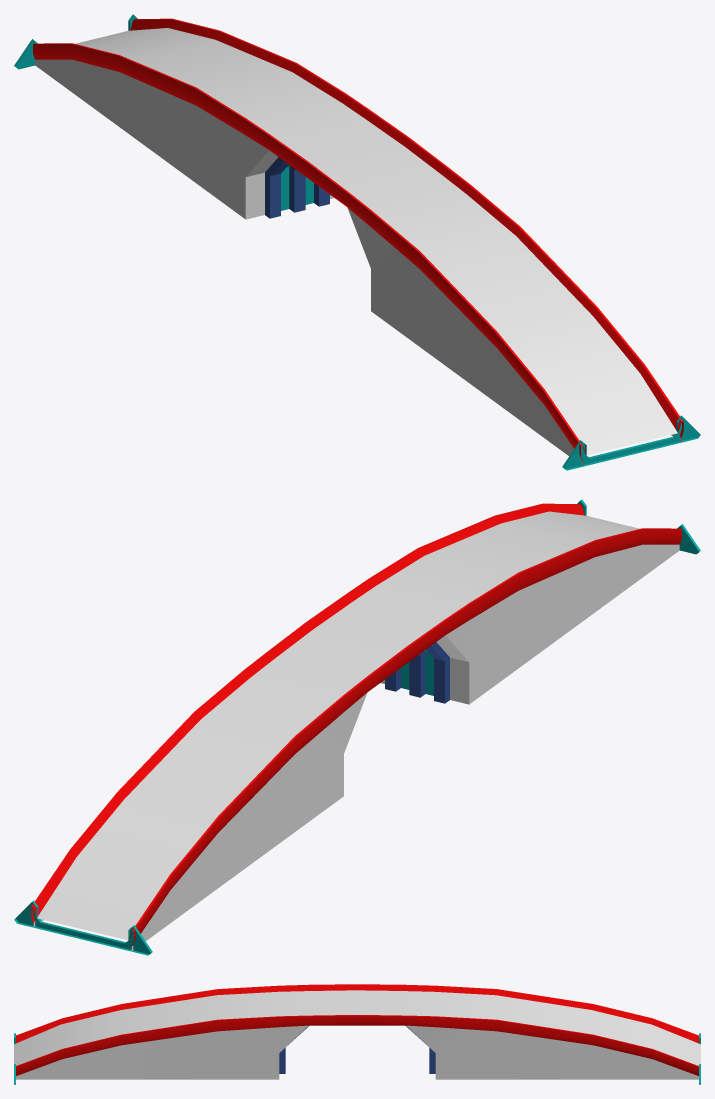
Rendered from RacetrackBridge.fbx.
3 renders of one model, top to bottom at view 1: azimuth 30°, elevation 25°; view 2: azimuth 150°, elevation 25°; view 3: azimuth 270°, elevation 25°, orthographic. The views are drawn at different scales.
Visible parts, largest first — view 1: RacetrackBridge.001, RacetrackBridge; view 2: RacetrackBridge.001, RacetrackBridge; view 3: RacetrackBridge, RacetrackBridge.001.
Boxes of the visible parts, x1,y1,x2,y2 form: RacetrackBridge.001: (75,28,677,455); RacetrackBridge: (14,14,700,470); RacetrackBridge.001: (37,511,639,940); RacetrackBridge: (14,499,700,955); RacetrackBridge: (14,984,700,1084); RacetrackBridge.001: (14,990,700,1065).
Bounding box in the file's own units: 3604 × 2609 × 25009.
